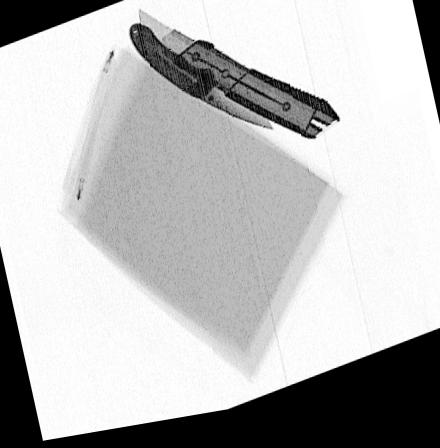Knife: (138, 11, 340, 150), (128, 26, 274, 138)
